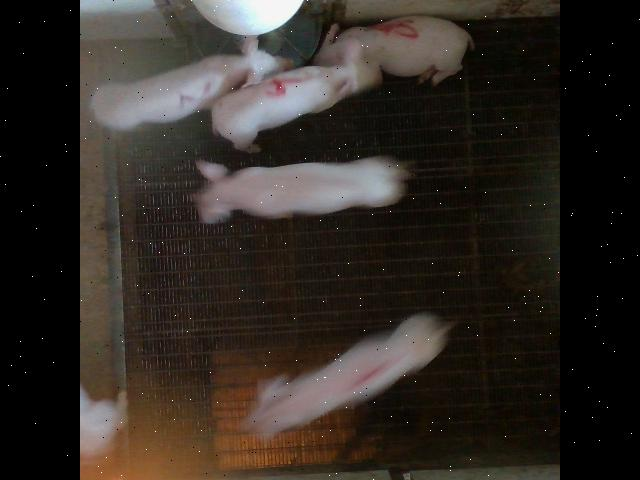pig-1: (244, 312, 452, 434)
pig-2: (91, 35, 292, 129)
pig-4: (211, 36, 381, 151)
pig-5: (341, 15, 474, 84)
